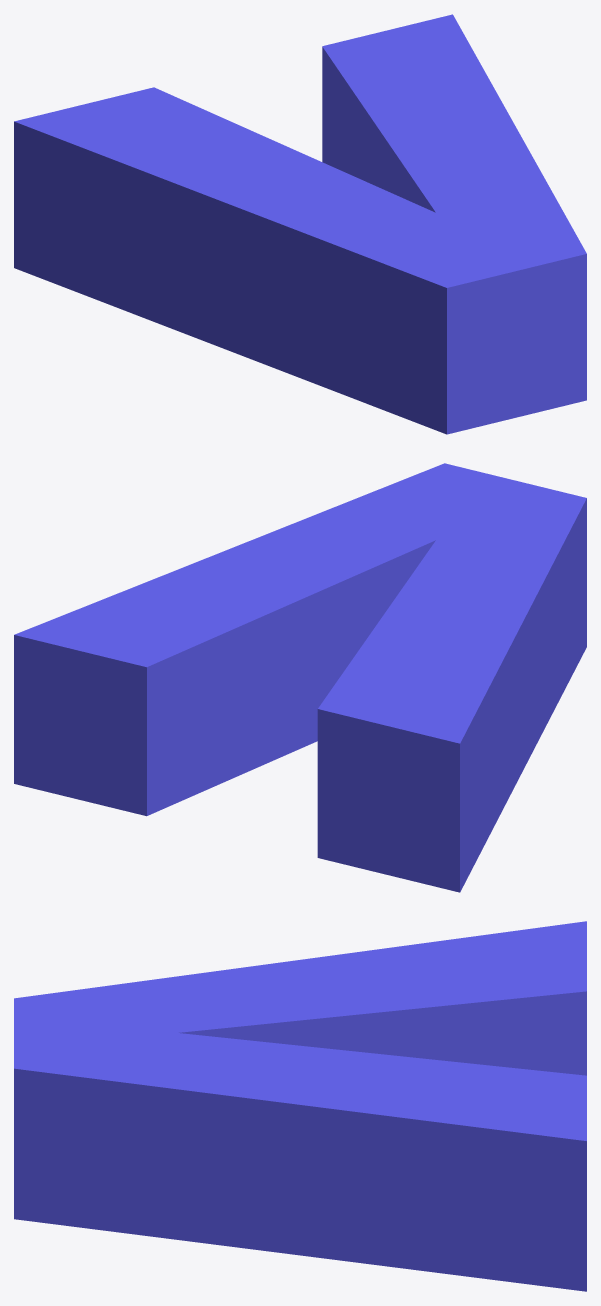
3 renders of one model, top to bottom at view 1: azimuth 30°, elevation 25°; view 2: azimuth 150°, elevation 25°; view 3: azimuth 270°, elevation 25°, orthographic. The views are drawn at different scales.
Visible parts, largest first — view 1: V1; view 2: V1; view 3: V1.
Part boxes in pixels (left/top/right/bottom): V1: left=14, top=14, right=586, bottom=434; V1: left=14, top=463, right=586, bottom=892; V1: left=14, top=921, right=586, bottom=1291.
Bounding box in the file's own units: 0.47 × 0.15 × 0.5173.
